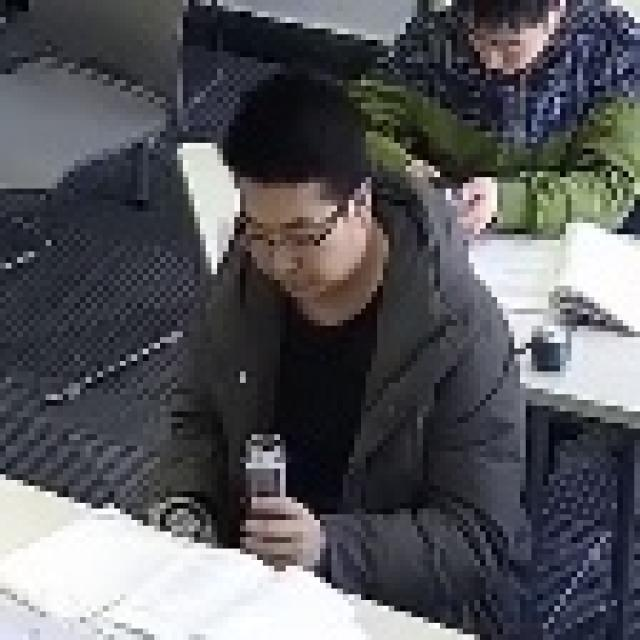drink: (162, 80, 503, 640)
write: (319, 0, 634, 234)
